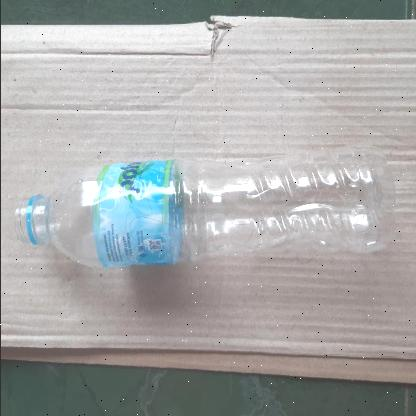Plastic Bottle: (12, 147, 394, 269)
